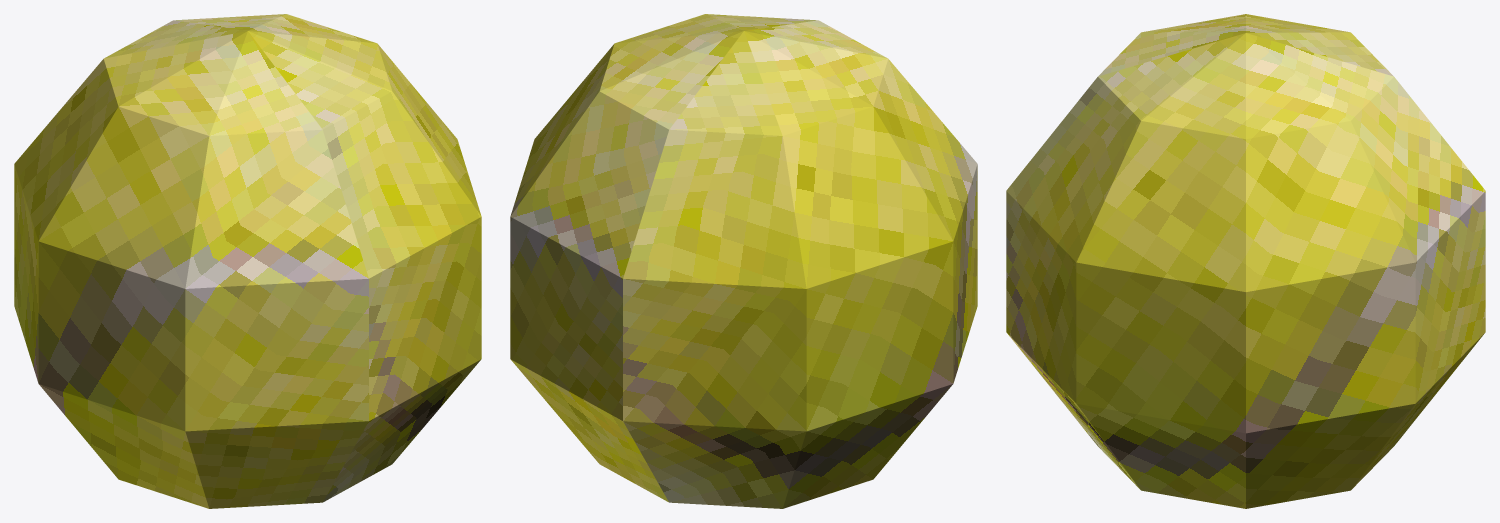
File: TennisBall01.obj
3 views of the same model, side by side, from view 1: azimuth 30°, elevation 25°; view 2: azimuth 150°, elevation 25°; view 3: azimuth 270°, elevation 25° (orthographic).
Parts seen in each view (by area): view 1: TennisBall01; view 2: TennisBall01; view 3: TennisBall01.
Boxes of the visible parts, bbox=[...] form: TennisBall01: bbox=[14, 14, 481, 508]; TennisBall01: bbox=[510, 14, 977, 508]; TennisBall01: bbox=[1006, 14, 1485, 508].
Size of the model in its own units: 0.2378 by 0.25 by 0.2378.
